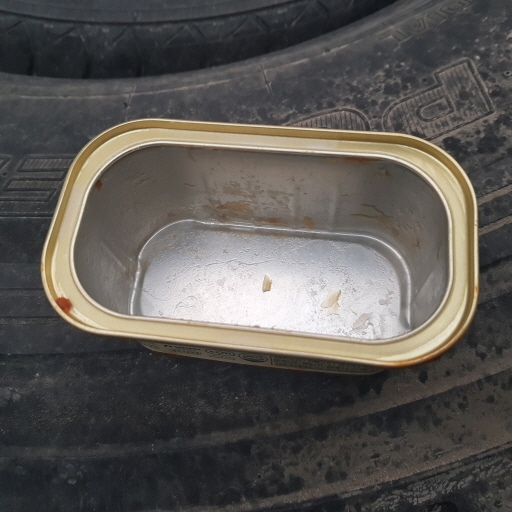Metal_2: (40, 115, 481, 376)
